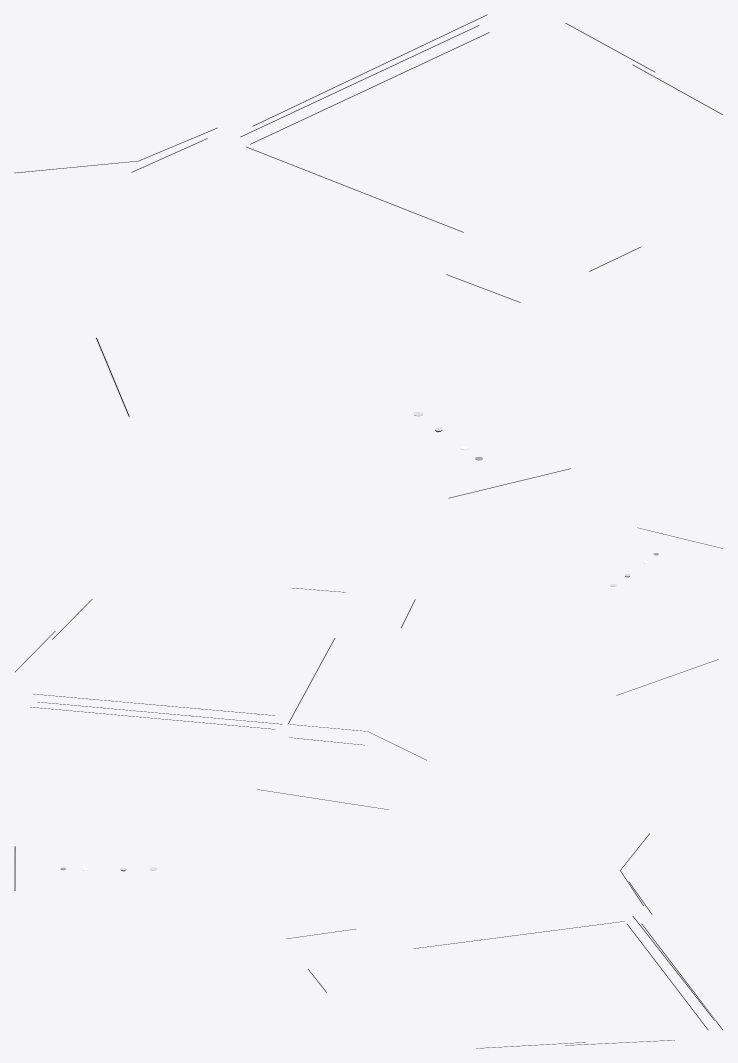
The model's file is Tailing and lamp 1.fbx.
3 renders of one model, top to bottom at view 1: azimuth 30°, elevation 25°; view 2: azimuth 150°, elevation 25°; view 3: azimuth 270°, elevation 25°, orthographic. The views are drawn at different scales.
Parts seen in each view (by area): view 1: Tailing_LP; view 2: Tailing_LP; view 3: Tailing_LP.
Part boxes in pixels (box(x1,y1,x2,y2)): Tailing_LP: box(14, 14, 723, 498); Tailing_LP: box(14, 527, 723, 760); Tailing_LP: box(14, 789, 723, 1048).
Size of the model in its own units: 9.23 by 0.1985 by 10.28.
